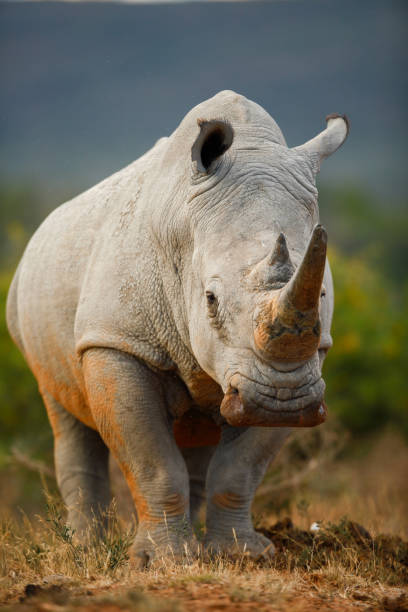rhino: (162, 92, 392, 456)
